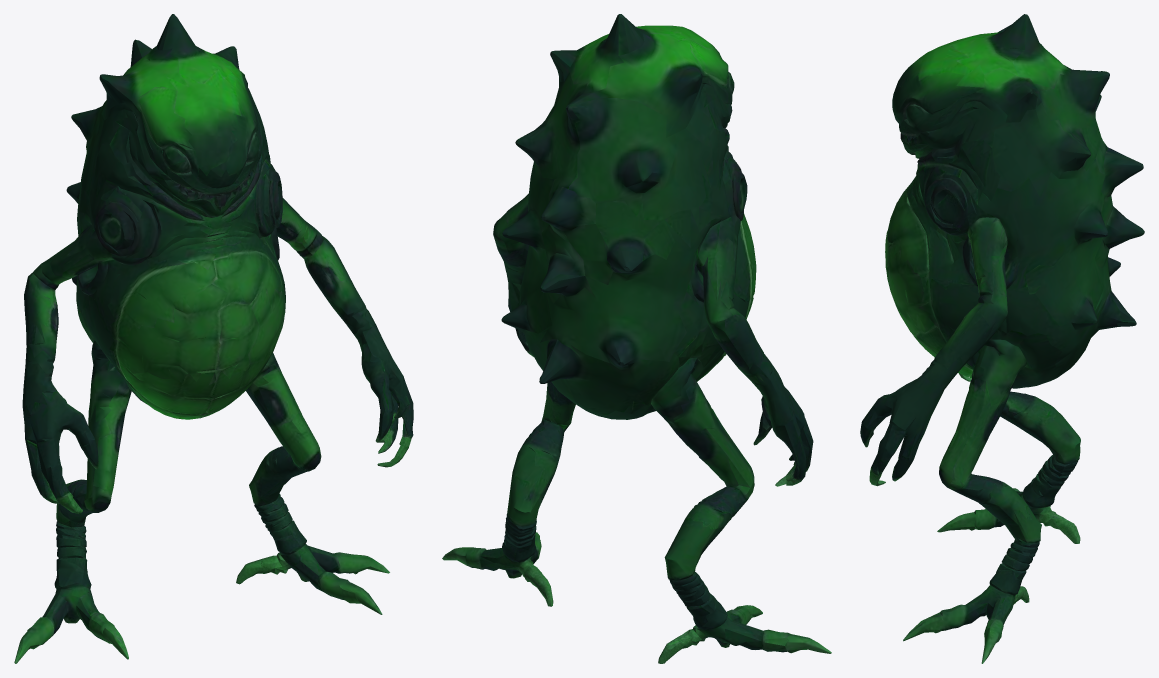
File: zbane.glb
3 renders of one model, left to right at view 1: azimuth 30°, elevation 25°; view 2: azimuth 150°, elevation 25°; view 3: azimuth 270°, elevation 25°, orthographic. The views are drawn at different scales.
Size of the model in its own units: 1.27 by 1.9 by 0.8751.
Materials: 1 (1 with a texture image).
